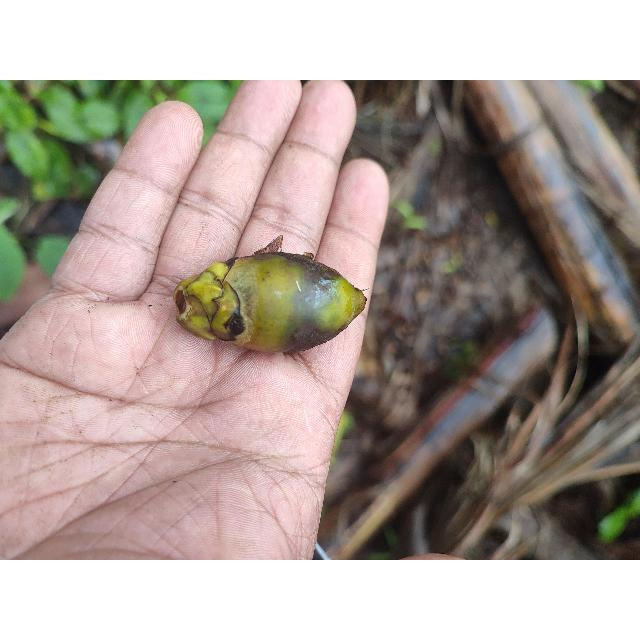damaged: (172, 248, 367, 356)
